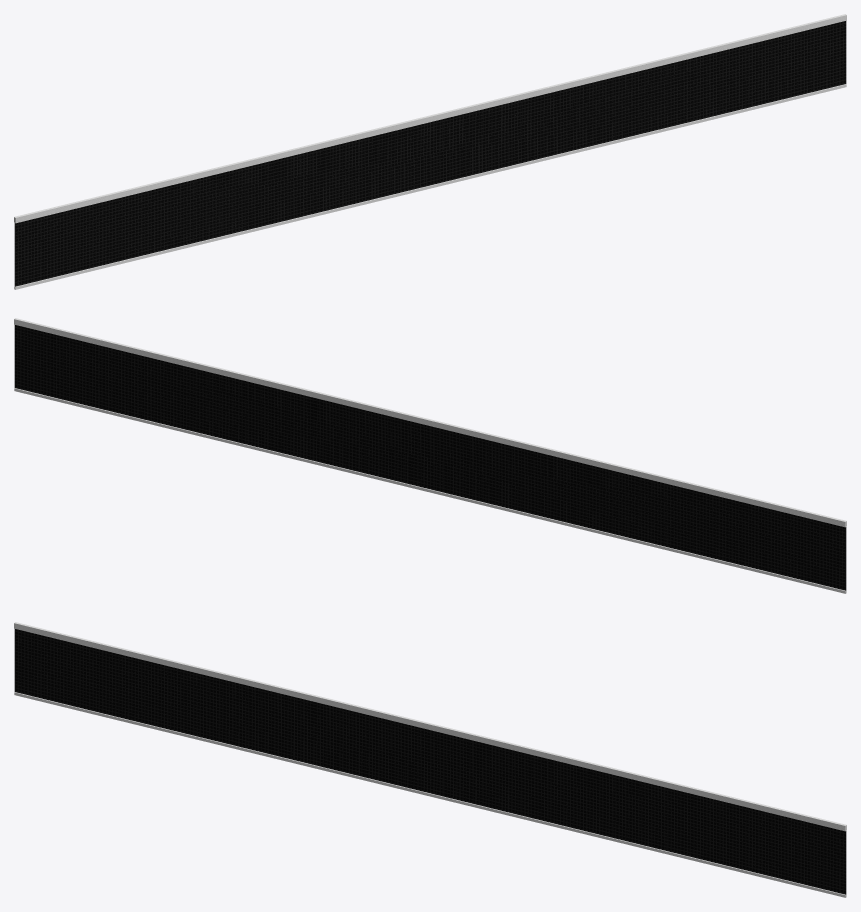
The model's file is Red.obj.
3 views of the same model, one above another, from view 1: azimuth 30°, elevation 25°; view 2: azimuth 150°, elevation 25°; view 3: azimuth 330°, elevation 25° (orthographic).
Bounding box in the file's own units: 12.8 × 1.06 × 0.04.
Materials: 2 (2 with a texture image).
